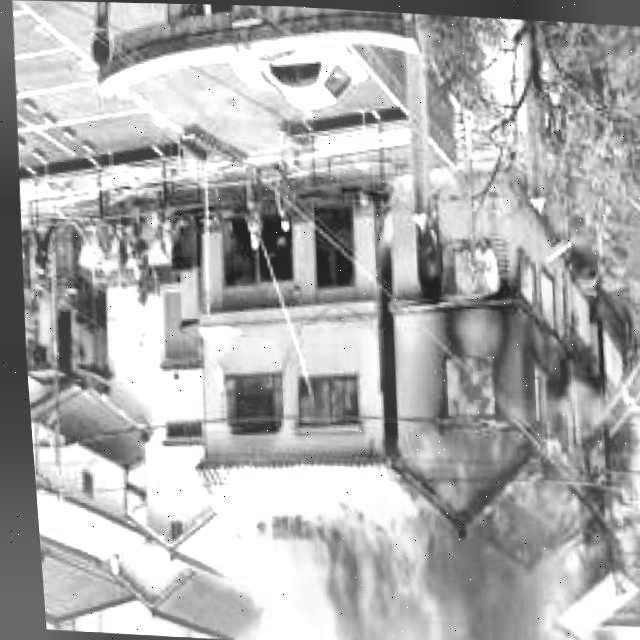Fire: (359, 200, 589, 467), (250, 372, 353, 431)
Smoke: (202, 464, 556, 640)
